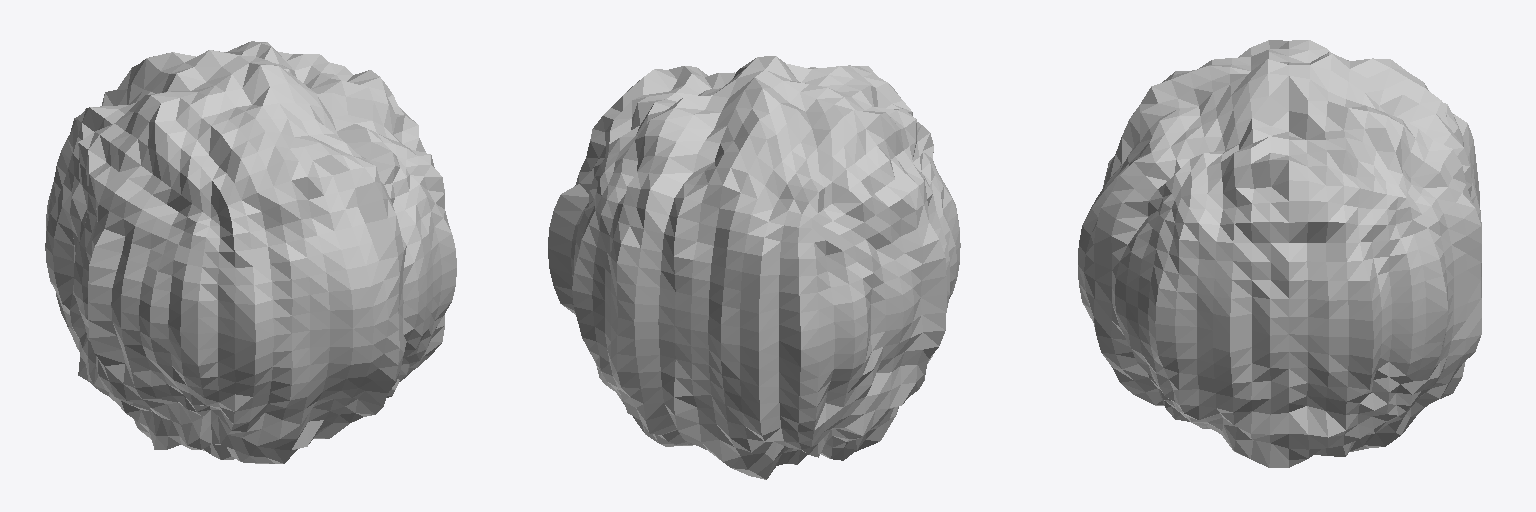
File: asteroid105.obj
The picture shows the model from 3 angles: view 1: azimuth 30°, elevation 25°; view 2: azimuth 150°, elevation 25°; view 3: azimuth 270°, elevation 25°; orthographic projection.
Parts seen in each view (by area): view 1: Cube_Cube.002; view 2: Cube_Cube.002; view 3: Cube_Cube.002.
Boxes of the visible parts, <box> form: Cube_Cube.002: <box>45,41,456,463</box>; Cube_Cube.002: <box>548,56,960,479</box>; Cube_Cube.002: <box>1078,40,1481,467</box>.
Size of the model in its own units: 1.8 by 1.94 by 1.82.